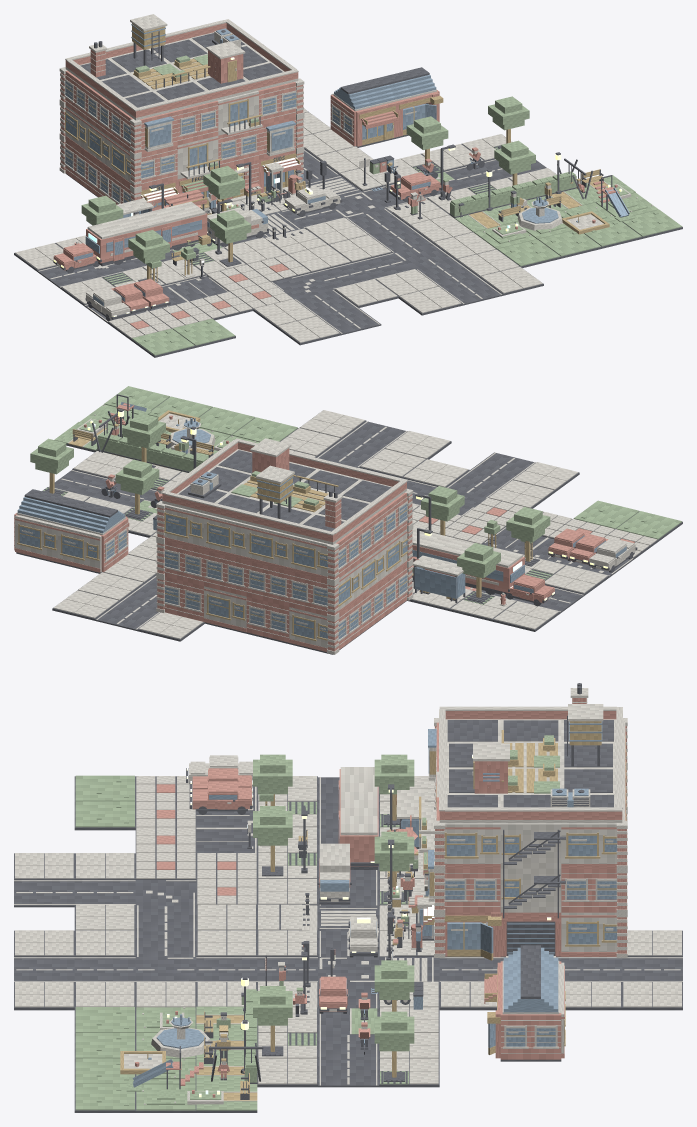
The picture shows the model from 3 angles, top to bottom: view 1: azimuth 30°, elevation 25°; view 2: azimuth 150°, elevation 25°; view 3: azimuth 270°, elevation 25°; orthographic projection. The views are drawn at different scales.
Visible parts, largest first — view 1: 243-city-bus/3, 243-city-bus/0, 193-street-tree-grate/2, 190-street-tree-grate/2, 189-street-tree-grate/2, 191-street-tree-grate/2, 192-street-tree-grate/2, 194-street-tree-grate/2, 117-window-bay-brick/0, 118-balcony-bay/0, 073-grass-verge-tile/1, 087-grass-verge-tile/1 (+84 smaller); view 2: 243-city-bus/3, 183-bus-stop-shelter/1, 190-street-tree-grate/2, 192-street-tree-grate/2, 194-street-tree-grate/2, 191-street-tree-grate/2, 188-street-tree-grate/2, 087-grass-verge-tile/1, 086-grass-verge-tile/1, 193-street-tree-grate/2, 012-road-straight/0, 050-pavement-tile/1 (+105 smaller); view 3: 243-city-bus/3, 121-fire-escape-stair-bay/0, 107-fire-escape-stair-bay/0, 178-window-bay-brick/0, 011-road-straight/0, 087-grass-verge-tile/1, 086-grass-verge-tile/1, 057-pavement-tile/1, 026-road-straight/0, 052-pavement-tile/1, 059-pavement-tile/1, 023-road-straight/0 (+120 smaller).
Part boxes in pixels (box(x1,y1,x2,y2)): 243-city-bus/3: box(87, 201, 205, 255); 243-city-bus/0: box(86, 213, 207, 263); 193-street-tree-grate/2: box(209, 210, 251, 243); 190-street-tree-grate/2: box(406, 116, 448, 149); 189-street-tree-grate/2: box(203, 166, 244, 199); 191-street-tree-grate/2: box(488, 96, 529, 130); 192-street-tree-grate/2: box(128, 230, 169, 263); 194-street-tree-grate/2: box(494, 140, 535, 174); 117-window-bay-brick/0: box(177, 101, 218, 145); 118-balcony-bay/0: box(217, 91, 262, 135); 073-grass-verge-tile/1: box(497, 239, 560, 266); 087-grass-verge-tile/1: box(172, 318, 235, 345); 243-city-bus/3: box(412, 528, 522, 585); 183-bus-stop-shelter/1: box(414, 566, 465, 598); 190-street-tree-grate/2: box(115, 459, 159, 494); 192-street-tree-grate/2: box(506, 507, 550, 542); 194-street-tree-grate/2: box(122, 413, 165, 448); 191-street-tree-grate/2: box(30, 438, 73, 474); 188-street-tree-grate/2: box(457, 543, 500, 578); 087-grass-verge-tile/1: box(573, 500, 639, 528); 086-grass-verge-tile/1: box(616, 511, 681, 539); 193-street-tree-grate/2: box(421, 486, 464, 521); 012-road-straight/0: box(95, 601, 160, 631); 050-pavement-tile/1: box(360, 449, 425, 476); 243-city-bus/3: box(340, 767, 377, 835); 121-fire-escape-stair-bay/0: box(500, 823, 561, 868); 107-fire-escape-stair-bay/0: box(500, 868, 561, 912); 178-window-bay-brick/0: box(500, 1013, 561, 1059); 011-road-straight/0: box(318, 1060, 378, 1087); 087-grass-verge-tile/1: box(75, 801, 134, 827); 086-grass-verge-tile/1: box(75, 775, 134, 801); 057-pavement-tile/1: box(136, 981, 195, 1007); 026-road-straight/0: box(14, 880, 74, 907); 052-pavement-tile/1: box(623, 981, 681, 1007); 059-pavement-tile/1: box(15, 981, 73, 1007); 023-road-straight/0: box(135, 905, 196, 931).
Size of the model in its own units: 52.01 by 13.66 by 44.
8 materials, 8 textured.
